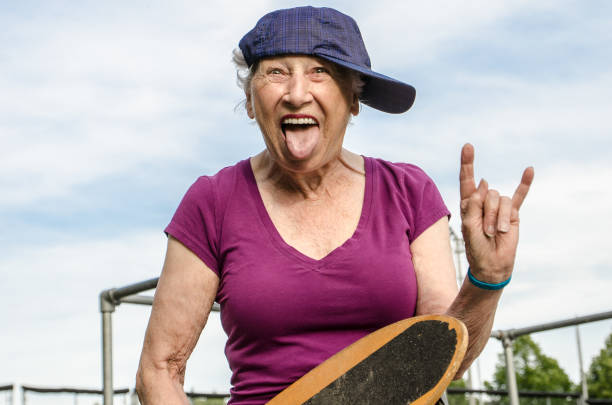Rock On: (455, 136, 540, 280)
